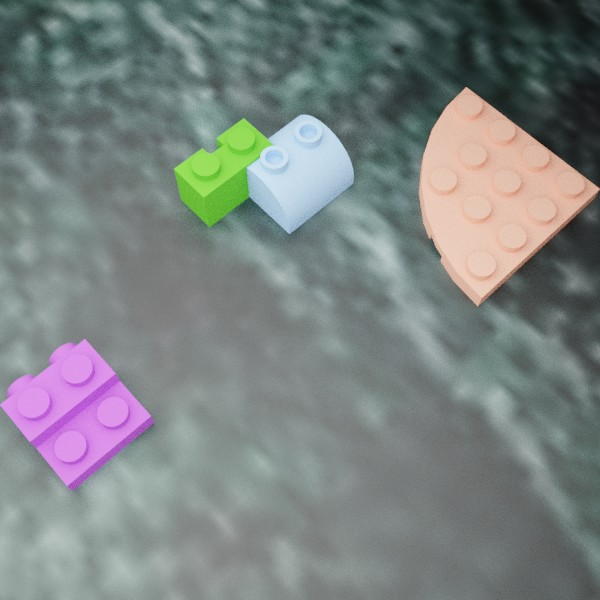lego: (418, 87, 599, 306), (0, 339, 154, 490), (230, 114, 353, 234), (173, 118, 275, 227)
